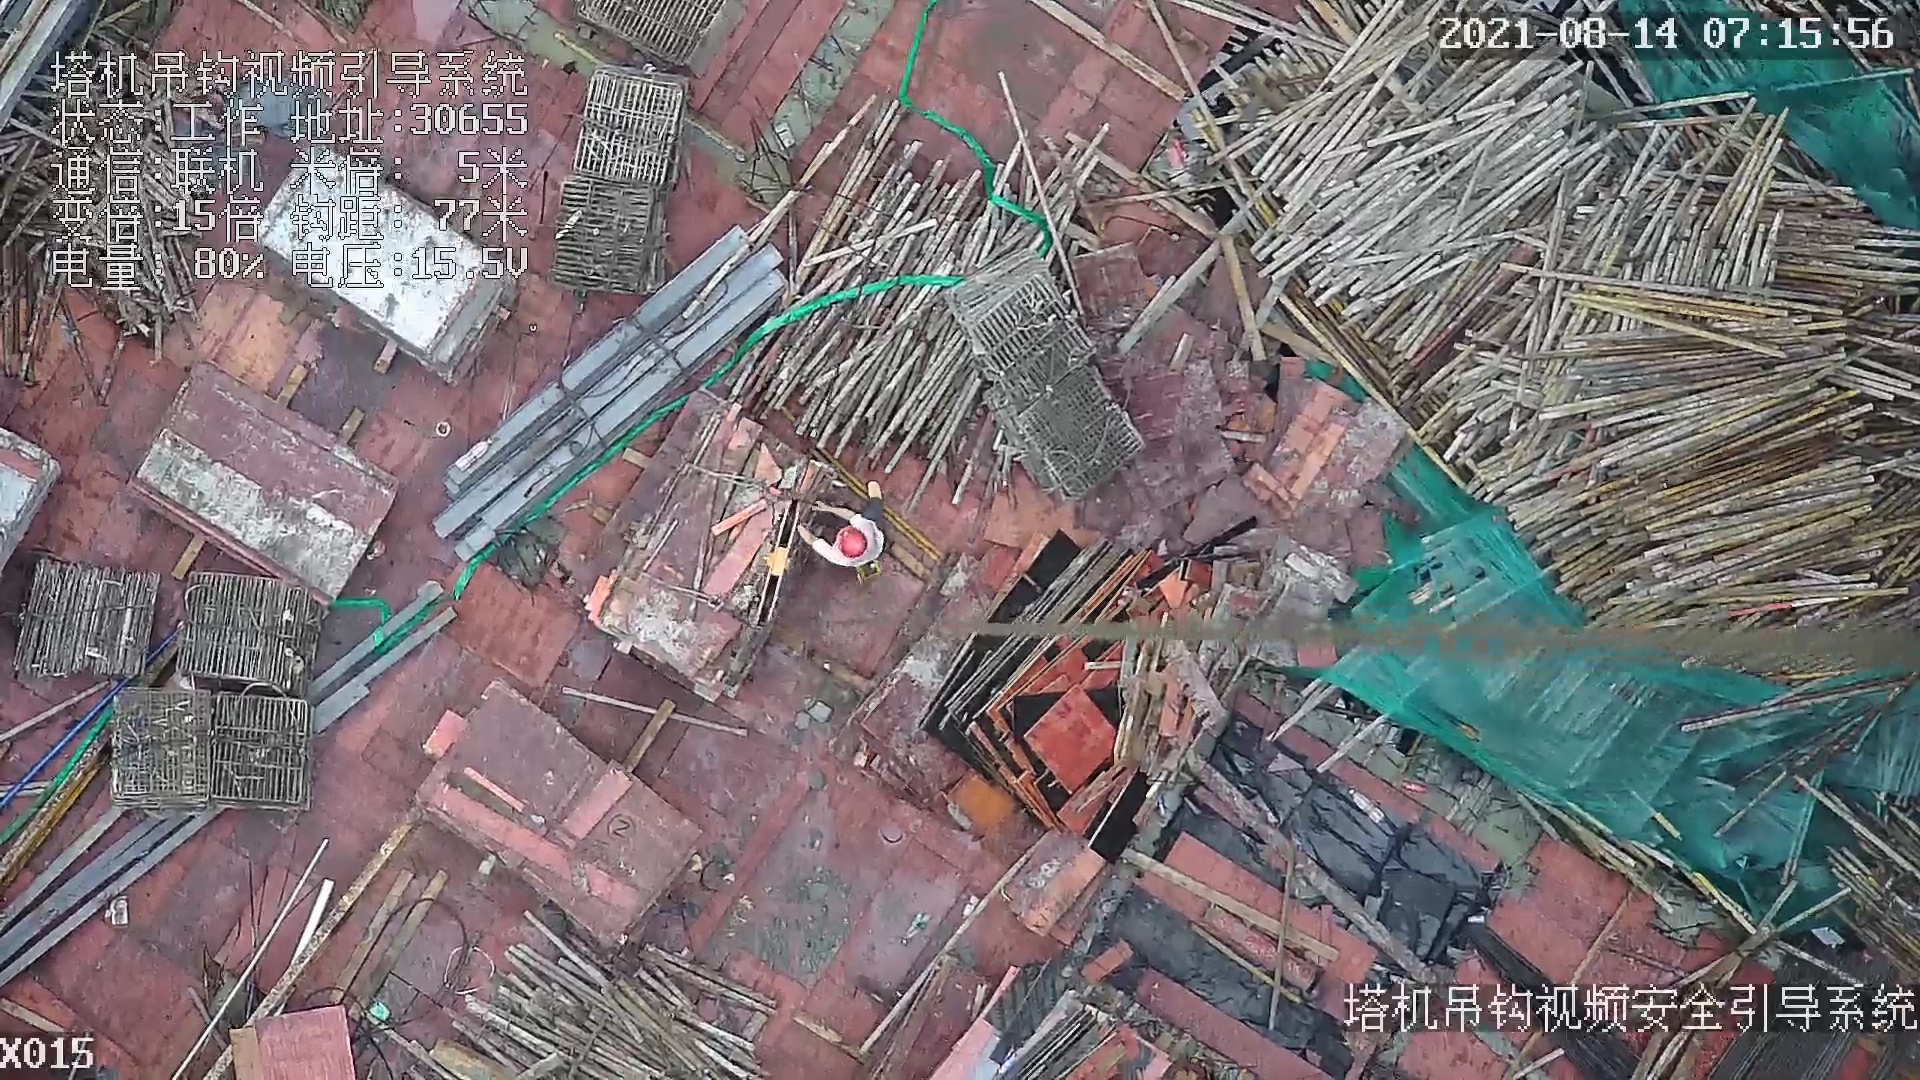helmet: (830, 523, 871, 560)
hook: (755, 492, 795, 628)
person: (799, 485, 891, 578)
